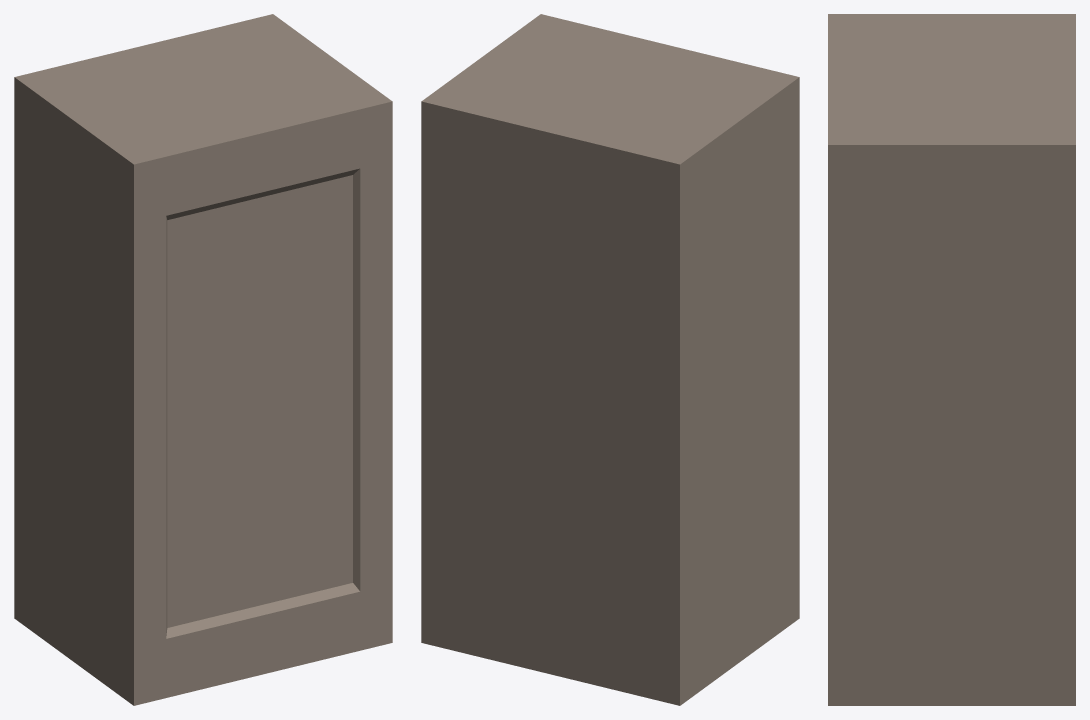
The model's file is Wall-Cabinet-Single-Door-with-Shelves_std_001_W15in.glb.
3 views of the same model, side by side, from view 1: azimuth 30°, elevation 25°; view 2: azimuth 150°, elevation 25°; view 3: azimuth 270°, elevation 25° (orthographic). The views are drawn at different scales.
Parts seen in each view (by area): view 1: Wall-Cabinet-Single-Door-with-Shelves.std.001_W15in; view 2: Wall-Cabinet-Single-Door-with-Shelves.std.001_W15in; view 3: Wall-Cabinet-Single-Door-with-Shelves.std.001_W15in.
Boxes of the visible parts, box(x1,y1,x2,y2) form: Wall-Cabinet-Single-Door-with-Shelves.std.001_W15in: box(14, 14, 392, 705); Wall-Cabinet-Single-Door-with-Shelves.std.001_W15in: box(421, 14, 799, 705); Wall-Cabinet-Single-Door-with-Shelves.std.001_W15in: box(828, 14, 1075, 705).
Size of the model in its own units: 0.381 by 0.762 by 0.3048.
